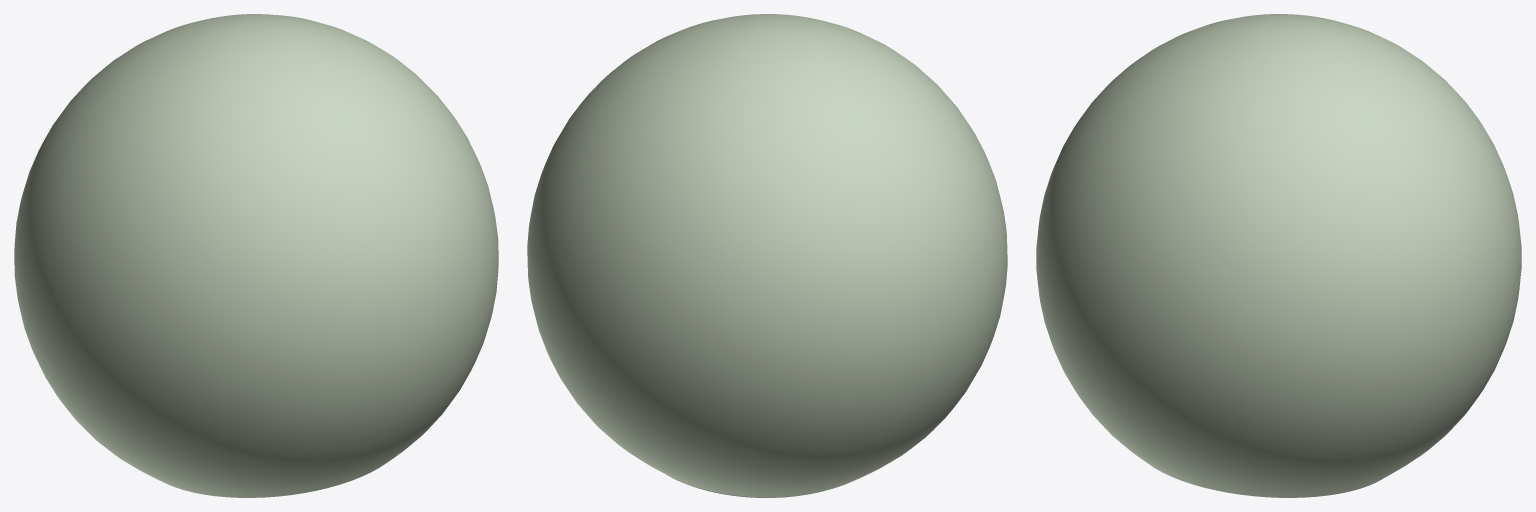
3 renders of one model, left to right at view 1: azimuth 30°, elevation 25°; view 2: azimuth 150°, elevation 25°; view 3: azimuth 270°, elevation 25°, orthographic.
Parts seen in each view (by area): view 1: 左侧巩膜; view 2: 左侧巩膜; view 3: 左侧巩膜.
Part boxes in pixels (x1,y1,x2,y2): 左侧巩膜: (14,14,498,497); 左侧巩膜: (527,14,1007,497); 左侧巩膜: (1036,14,1521,497).
Size of the model in its own units: 0.0387 by 0.0368 by 0.0387.
